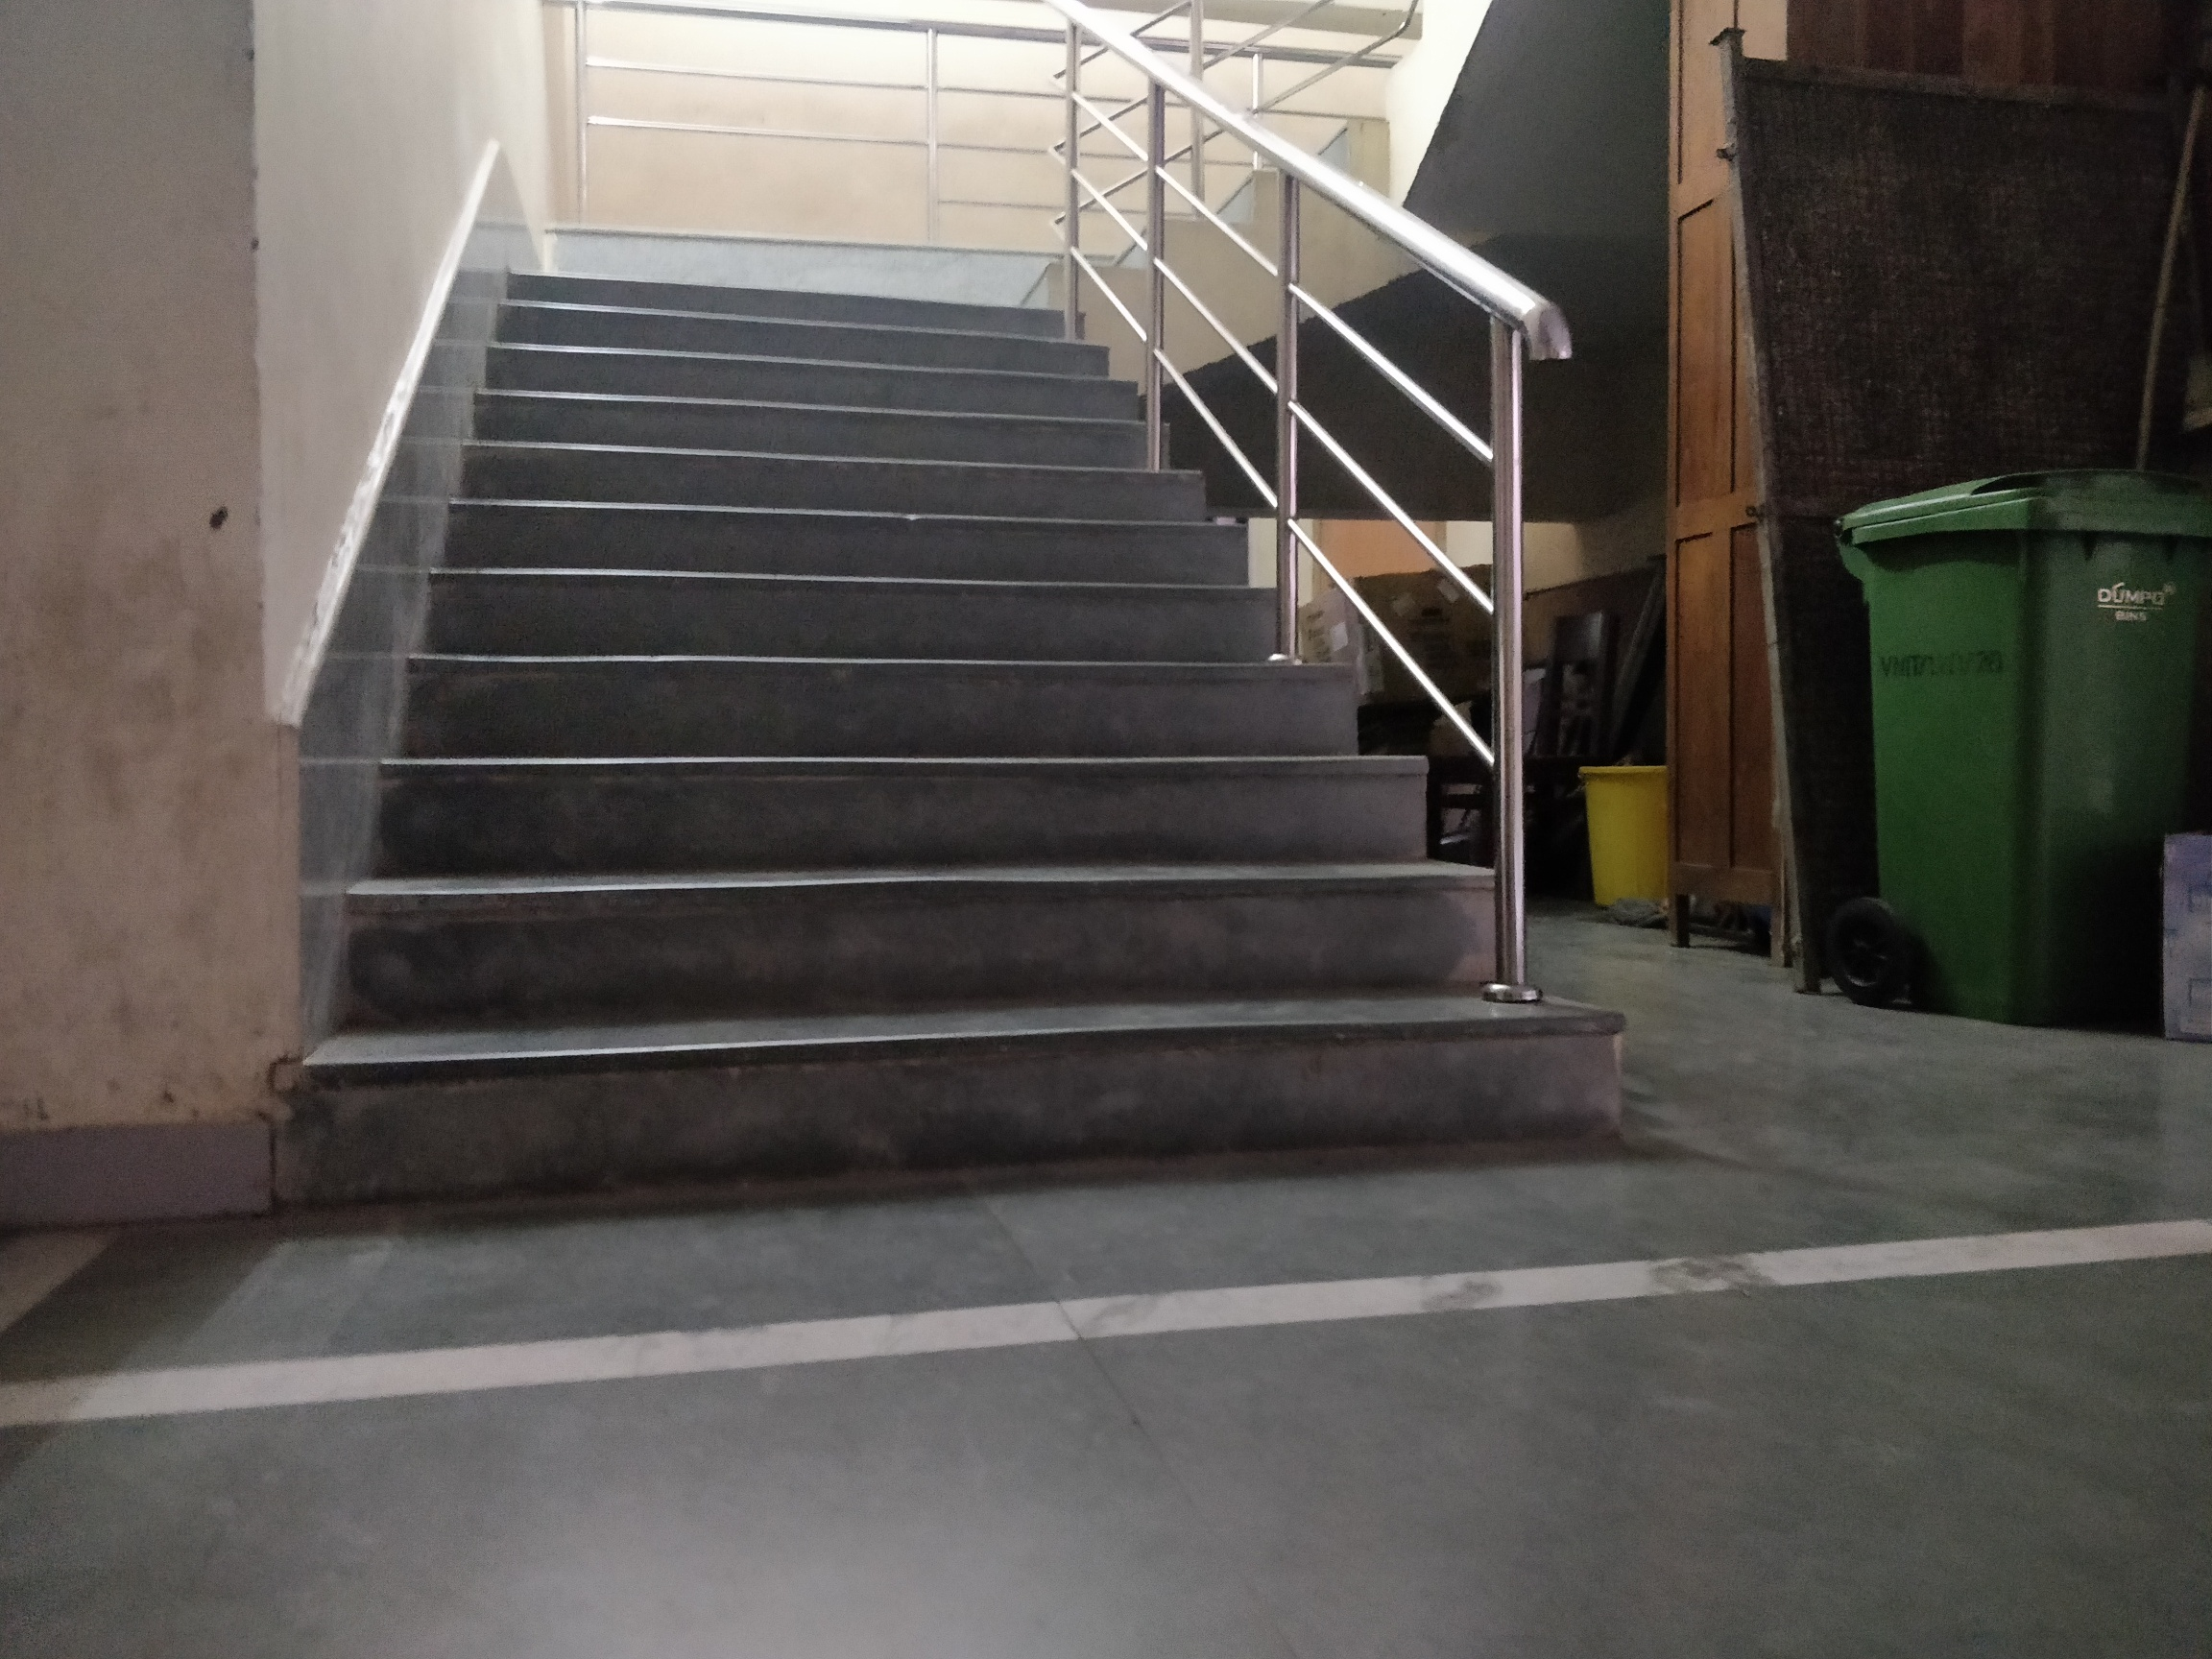stairs_up: (368, 256, 1592, 1154)
